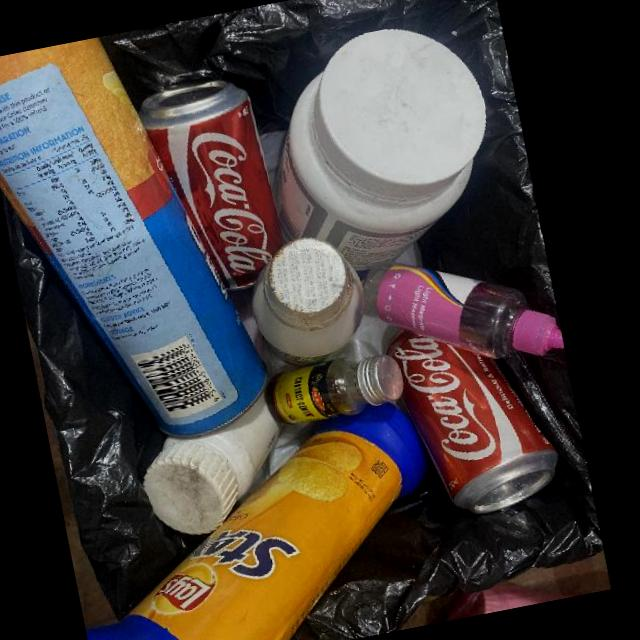carton: (0, 37, 268, 439), (85, 429, 404, 640)
chai_nhua: (279, 29, 487, 271), (363, 261, 565, 359), (143, 393, 279, 535), (252, 237, 364, 366)
chai_thuy_tinh: (273, 355, 404, 424)
nhom: (387, 330, 559, 514), (139, 81, 284, 293)
